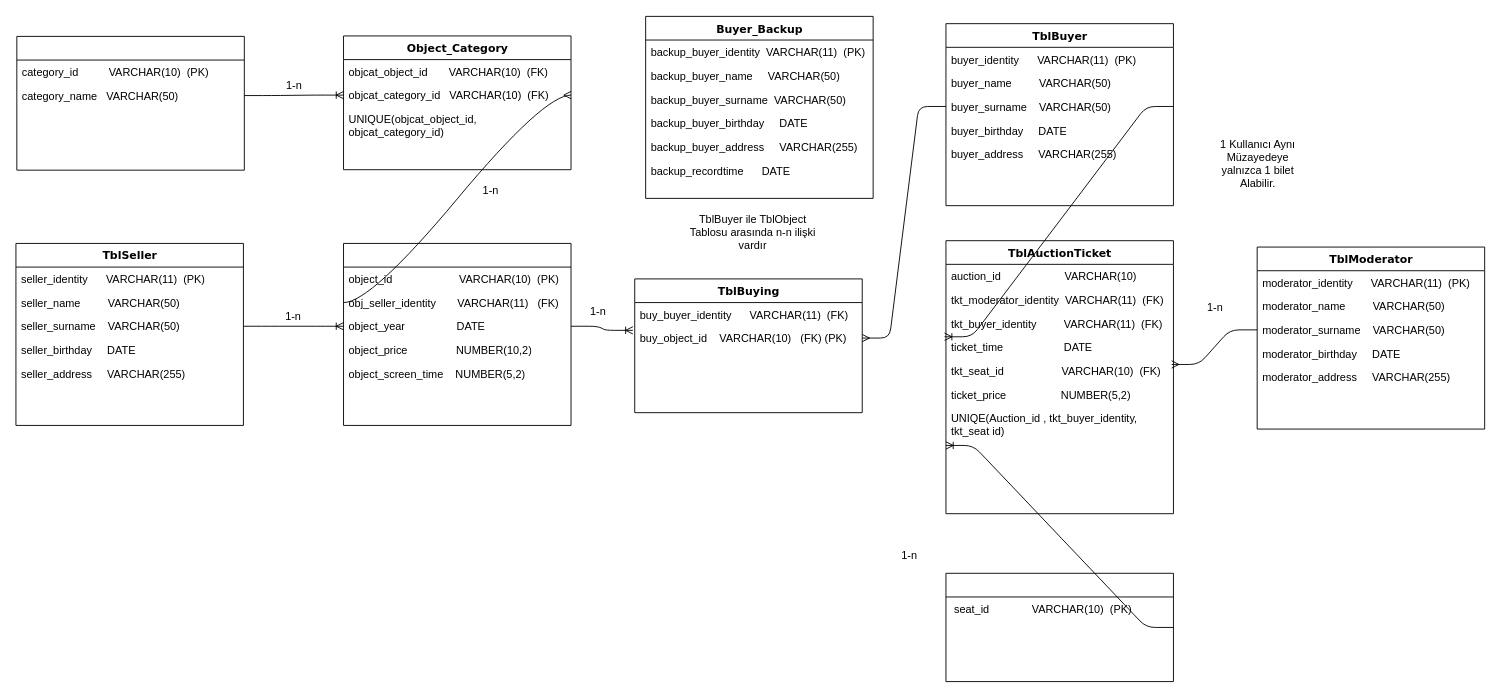
Some shapes in this 1501 by 697 pixel diagram are drawn without their labels. Here are the shapes that lost their labels. From the top down, the box of each, then its label:
(16, 35, 244, 170): TblCategory
(343, 243, 571, 425): TblObject
(945, 572, 1173, 682): TblSeat
